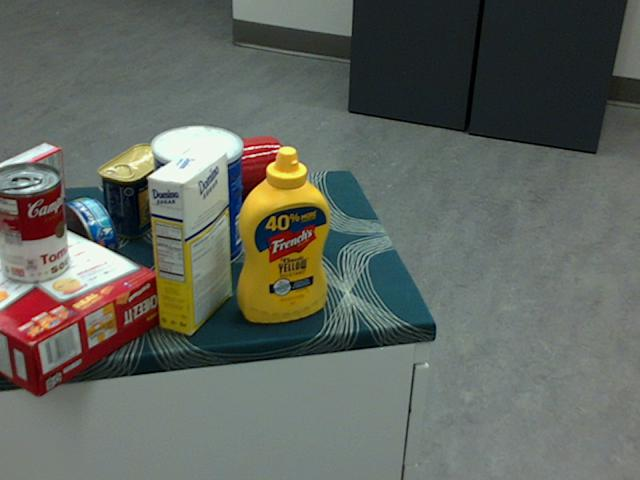cracker_box: (0, 206, 161, 396)
gelatin_box: (0, 142, 65, 223)
large_marker: (279, 152, 294, 246)
master_chef_can: (148, 124, 241, 271)
mug: (202, 134, 287, 208)
mustard_bottle: (236, 144, 331, 322)
potted_meat_can: (96, 141, 172, 238)
sugar_box: (146, 145, 232, 334)
tomato_soup_can: (0, 162, 68, 283)
tuna_fish_can: (50, 197, 116, 276)
